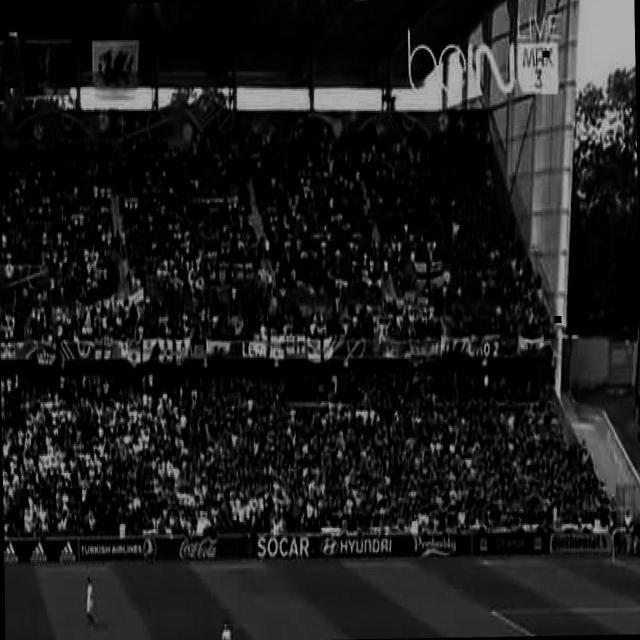player-white: (85, 574, 95, 628), (220, 618, 232, 640)
